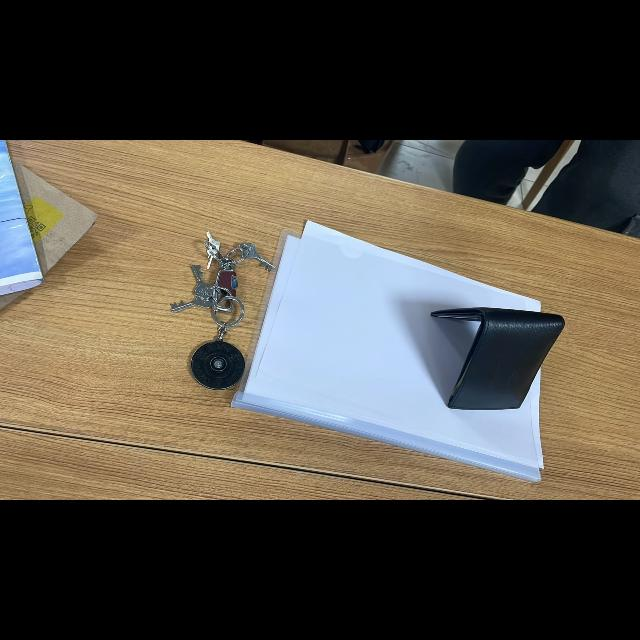keys: (160, 221, 294, 401)
wallet: (421, 285, 591, 447)
